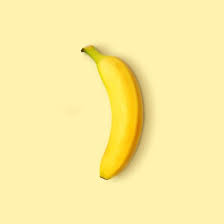banana: (70, 43, 161, 183)
